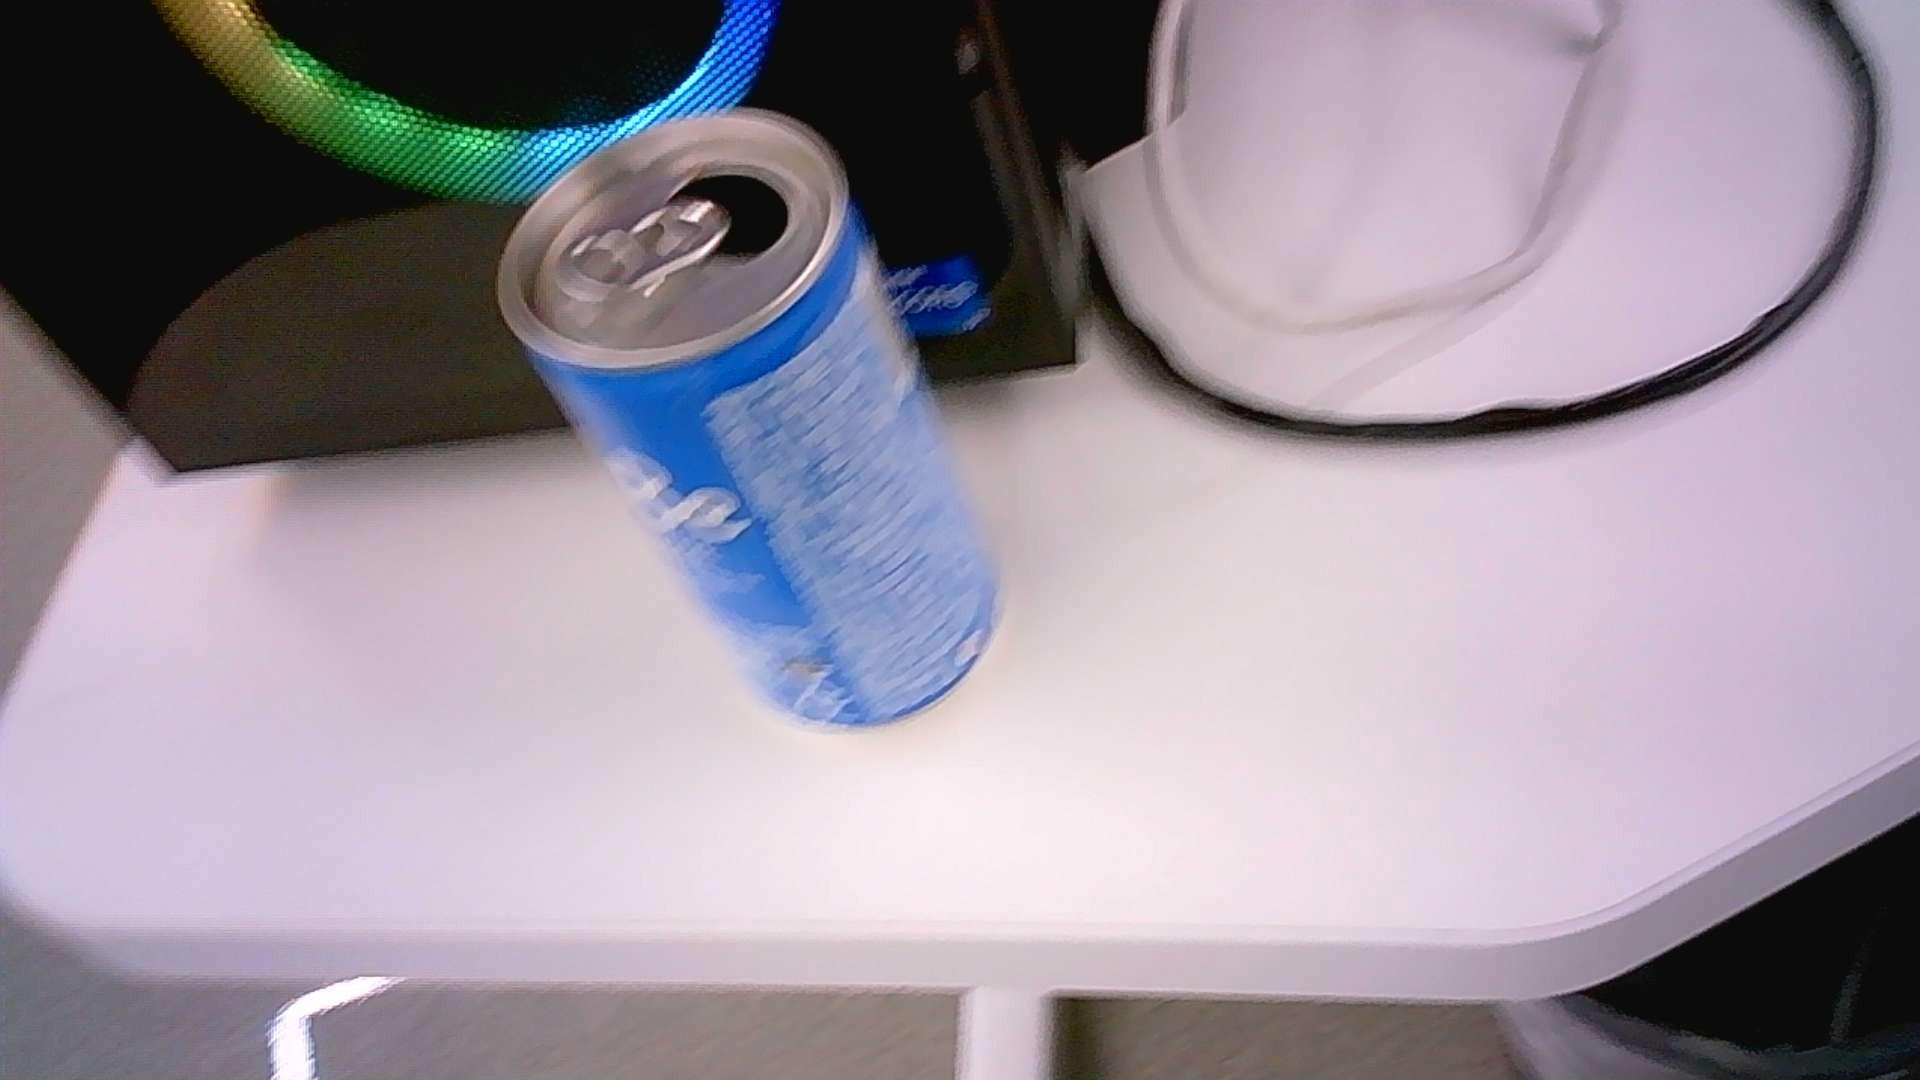letsbe: (500, 108, 1009, 729)
